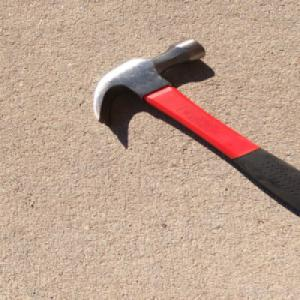Hammer: (88, 36, 300, 220)
